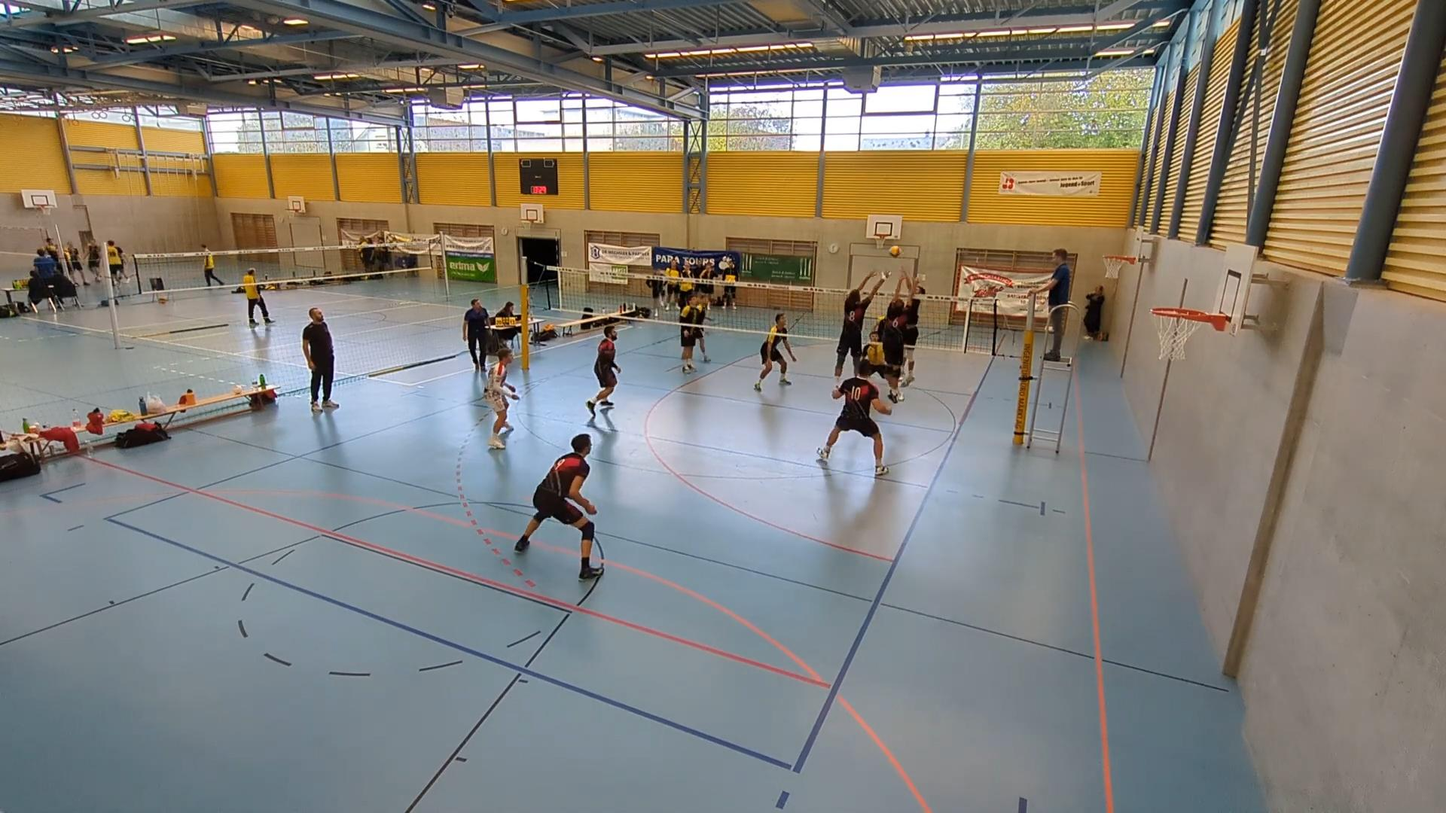attacco: (894, 263, 935, 391)
muro: (828, 270, 887, 401), (875, 270, 921, 408)
